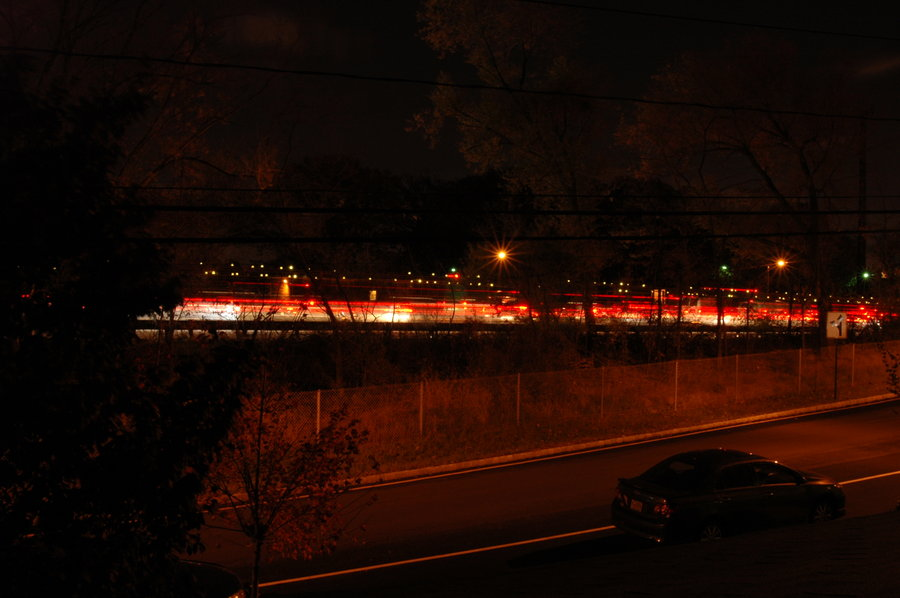car: (606, 441, 861, 557)
